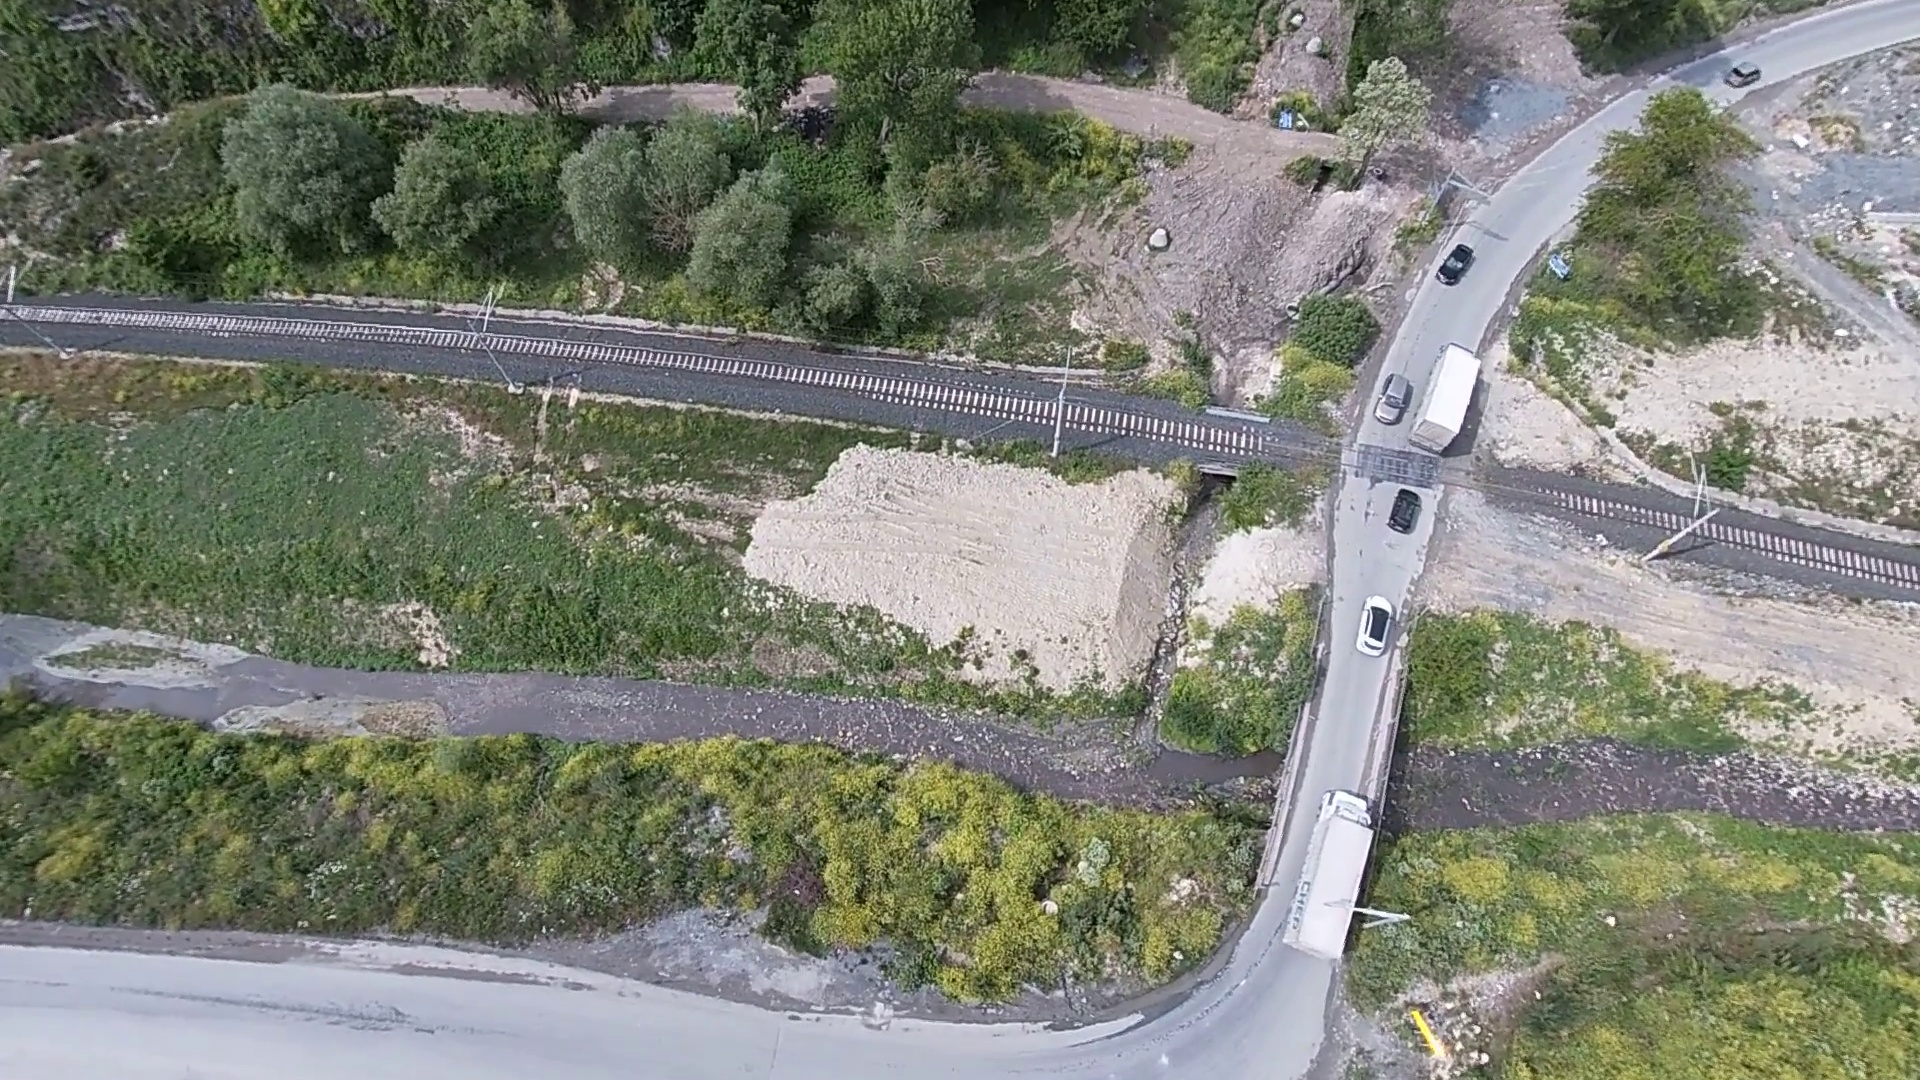araba: (1344, 591, 1391, 658), (1436, 233, 1478, 294), (1375, 373, 1420, 421), (1385, 485, 1433, 524), (1709, 63, 1784, 87)
kamyon: (1284, 791, 1374, 963), (1414, 340, 1498, 447)
